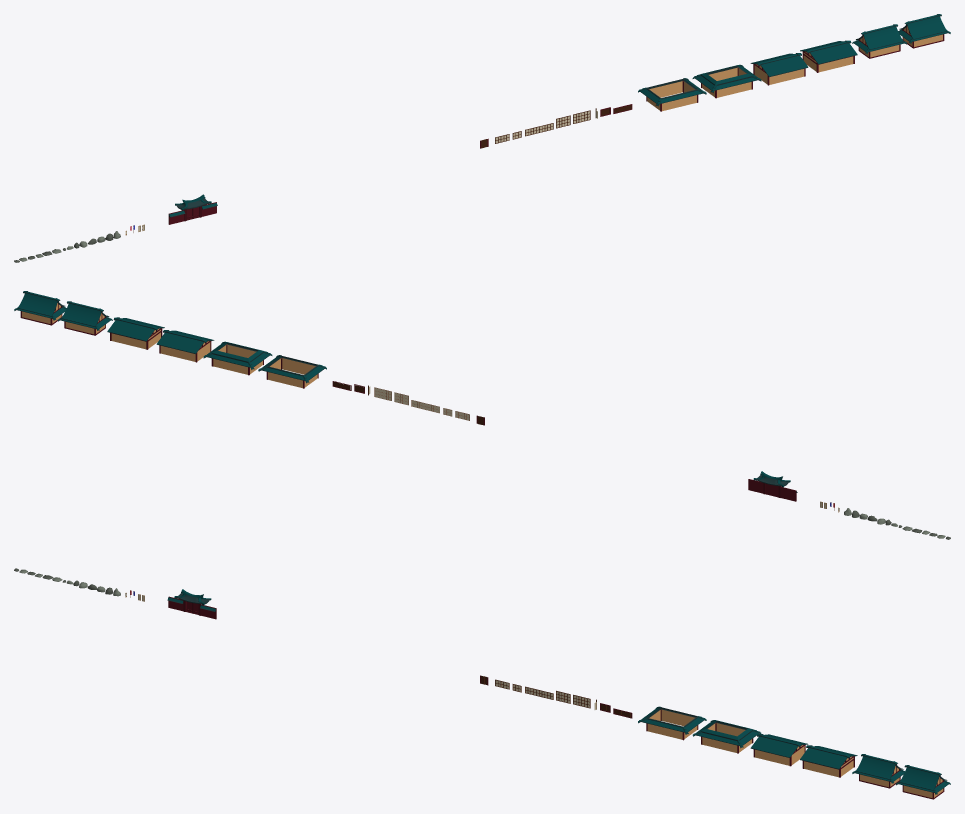
The model's file is semana_7.fbx.
3 renders of one model, top to bottom at view 1: azimuth 30°, elevation 25°; view 2: azimuth 150°, elevation 25°; view 3: azimuth 330°, elevation 25°, orthographic.
Parts seen in each view (by area): view 1: casa_madeira_modulo_003, casa_madeira_modulo_001, casa_madeira_modulo_002, casa_madeira_modulo_005, casa_madeira_modulo_004, casa_madeira_modulo_006; view 2: casa_madeira_modulo_003, casa_madeira_modulo_001, casa_madeira_modulo_002, casa_madeira_modulo_005, casa_madeira_modulo_004, casa_madeira_modulo_006; view 3: casa_madeira_modulo_003, casa_madeira_modulo_001, casa_madeira_modulo_005, casa_madeira_modulo_002, casa_madeira_modulo_006, casa_madeira_modulo_004.
Boxes of the visible parts, box(x1,y1,x2,y2) form: casa_madeira_modulo_003: box(692, 64, 761, 98); casa_madeira_modulo_001: box(638, 78, 706, 111); casa_madeira_modulo_002: box(750, 53, 808, 85); casa_madeira_modulo_005: box(800, 40, 857, 72); casa_madeira_modulo_004: box(852, 24, 906, 58); casa_madeira_modulo_006: box(898, 14, 950, 48); casa_madeira_modulo_003: box(203, 341, 272, 375); casa_madeira_modulo_001: box(258, 355, 326, 388); casa_madeira_modulo_002: box(156, 330, 214, 362); casa_madeira_modulo_005: box(107, 317, 164, 349); casa_madeira_modulo_004: box(58, 301, 112, 335); casa_madeira_modulo_006: box(14, 291, 66, 325); casa_madeira_modulo_003: box(692, 720, 761, 753); casa_madeira_modulo_001: box(638, 706, 706, 740); casa_madeira_modulo_005: box(800, 745, 857, 777); casa_madeira_modulo_002: box(750, 734, 808, 766); casa_madeira_modulo_006: box(896, 765, 950, 799); casa_madeira_modulo_004: box(852, 754, 904, 788).
Bounding box in the file's own units: 33244 × 806 × 1278.
